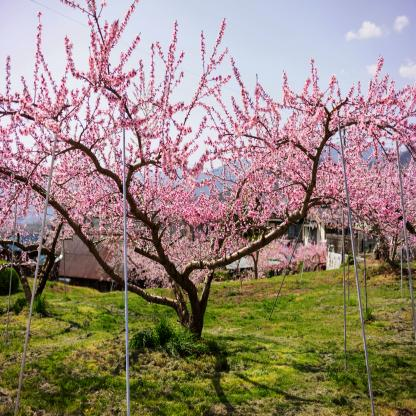Momo: (0, 0, 415, 272), (250, 238, 299, 270), (297, 234, 330, 273)
